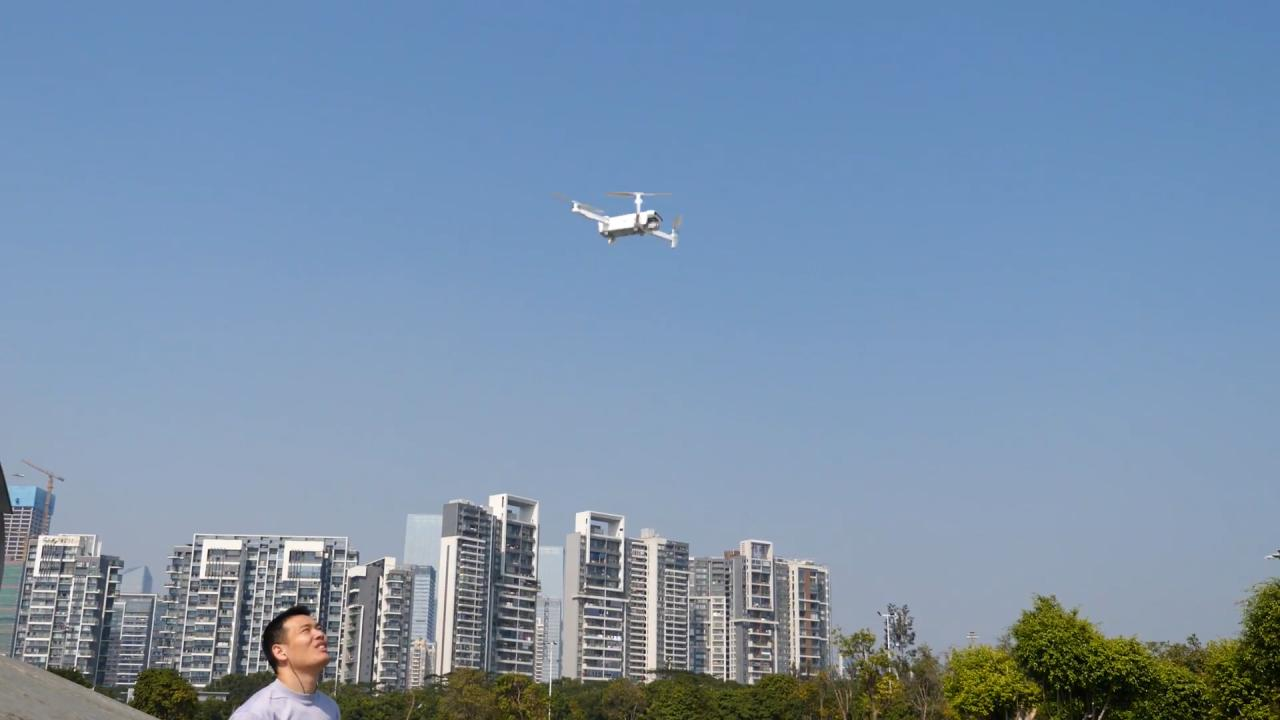Drone: (546, 179, 694, 261)
